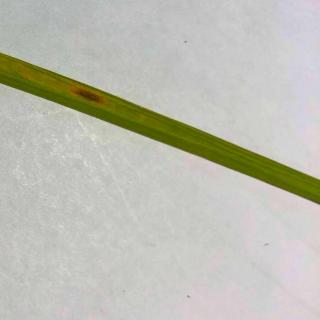bercak-Cokelat: (67, 81, 115, 112)
